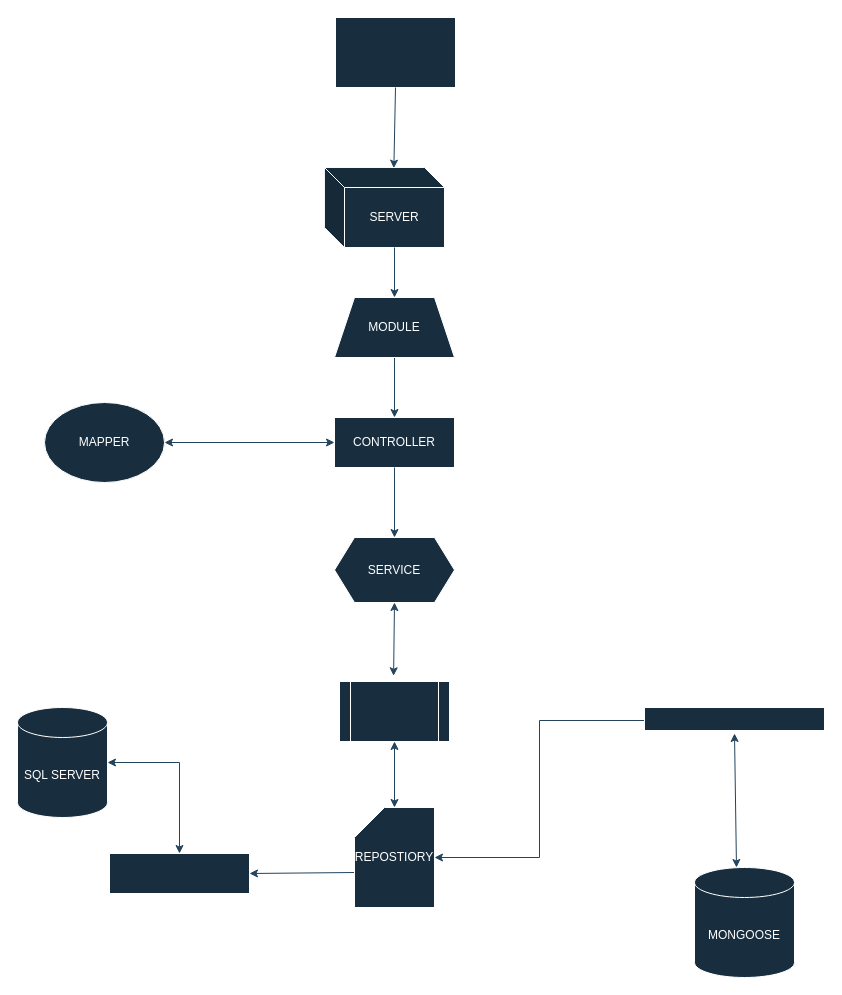
The diagram is 842 pixels wide and 995 high, and some of its shapes have lost their labels. Here are the shapes that lost their labels. From the top down, the box of each, then its label:
(334, 16, 456, 88): CLIENT
(338, 680, 450, 742): DOMAIN
(644, 706, 824, 734): SCHEMA
(108, 852, 250, 894): ENTITY
